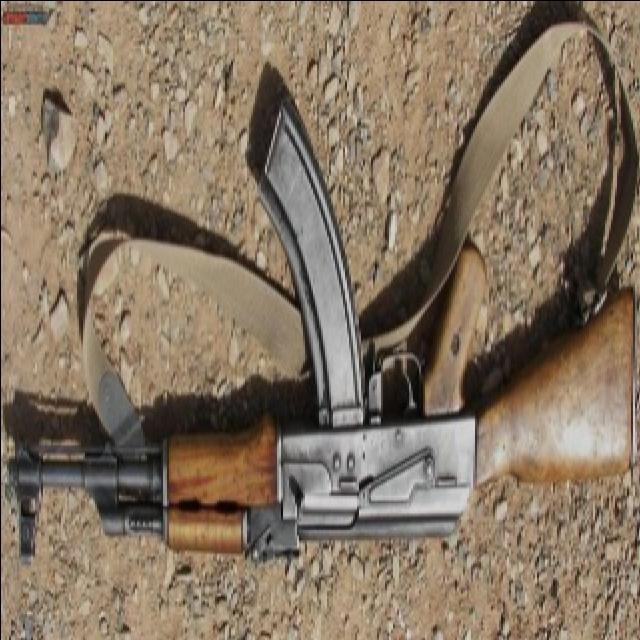rifle: (3, 95, 639, 573)
